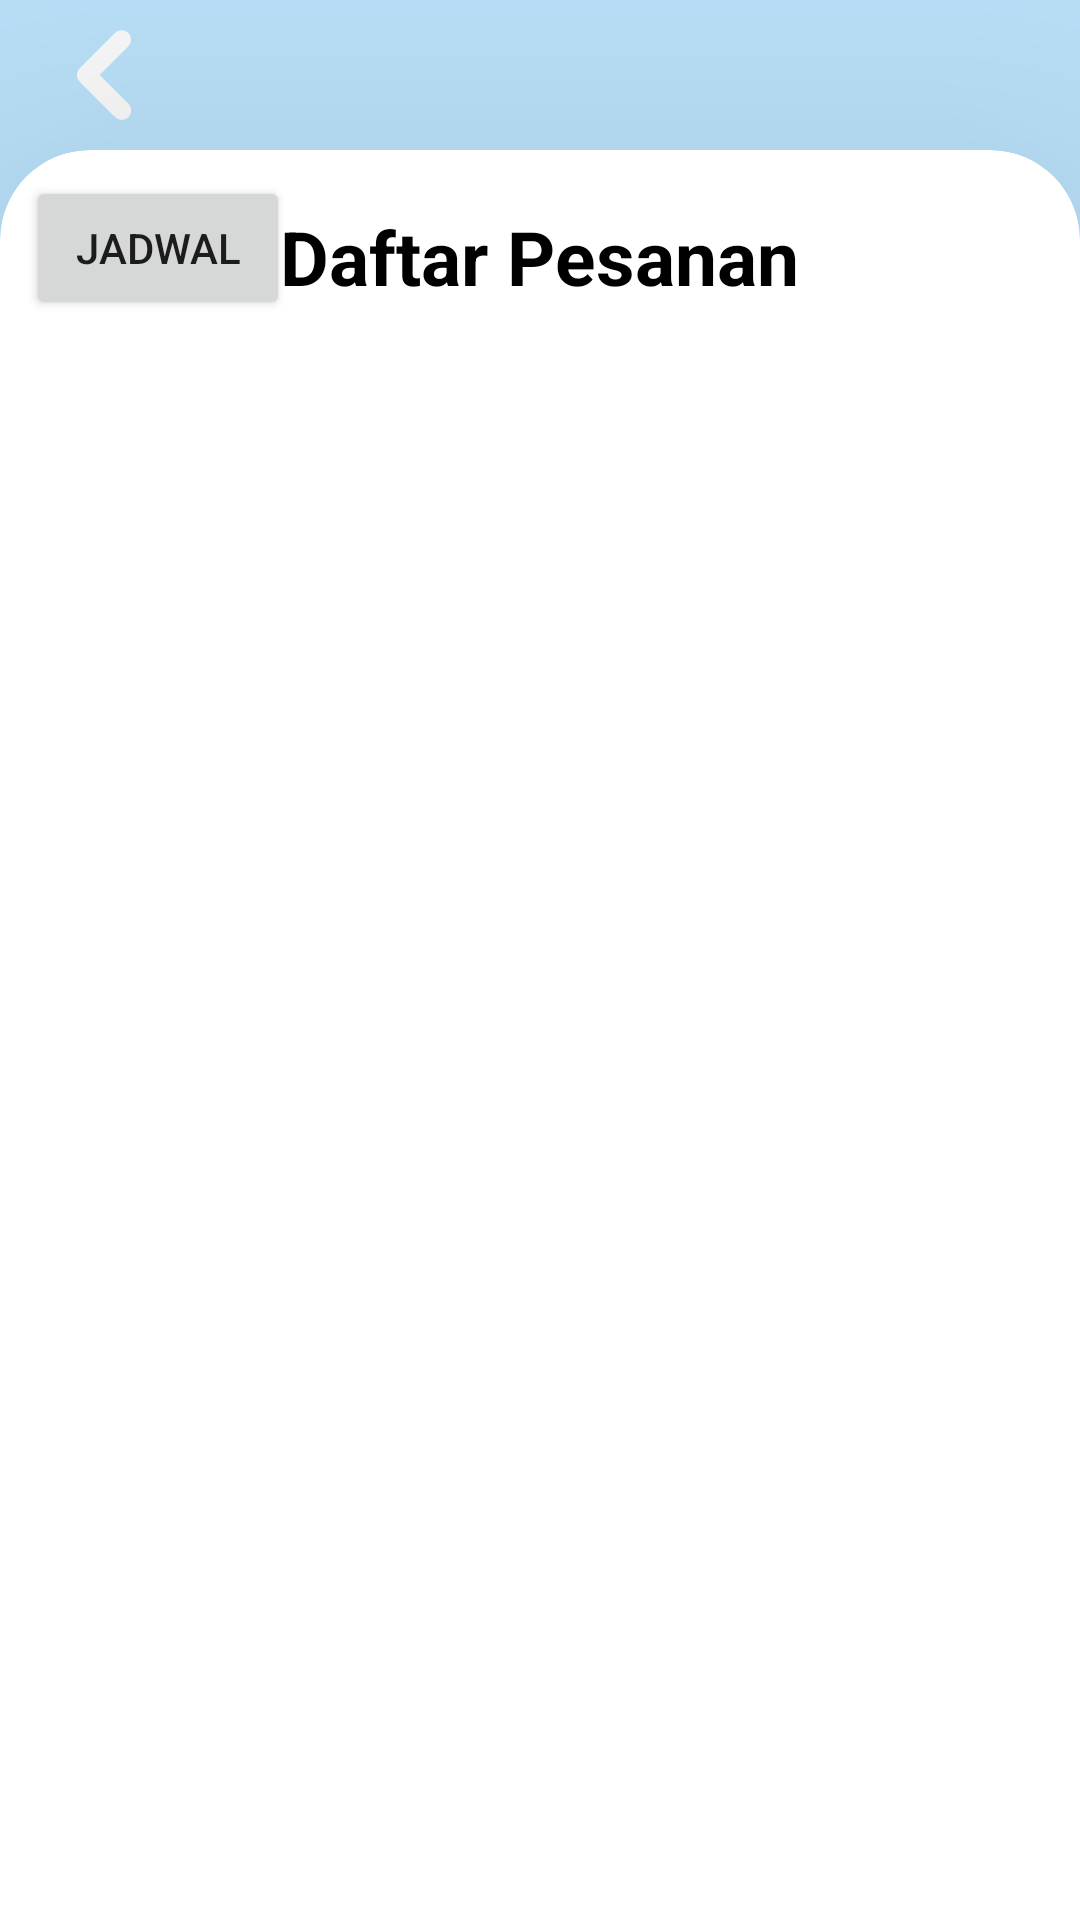

Named icons in this screenshot (1080px×1920px) and their centers, point (x, y):
back: point (104, 75)
